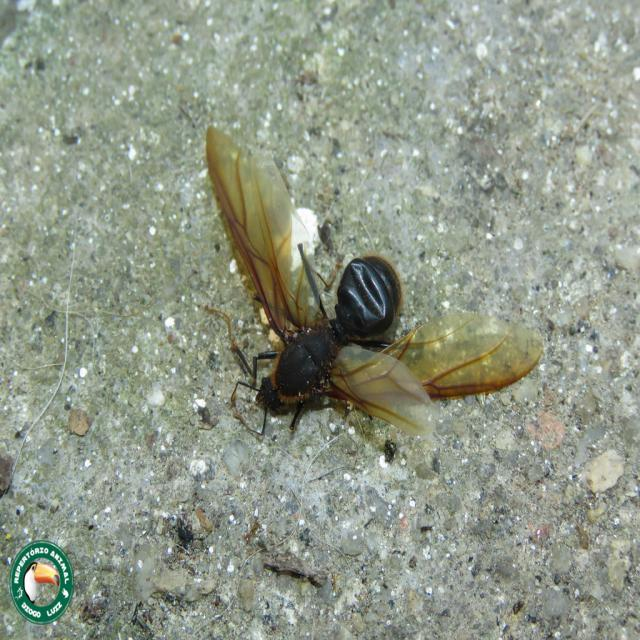Dead-Male-Alate: (194, 125, 545, 444)
